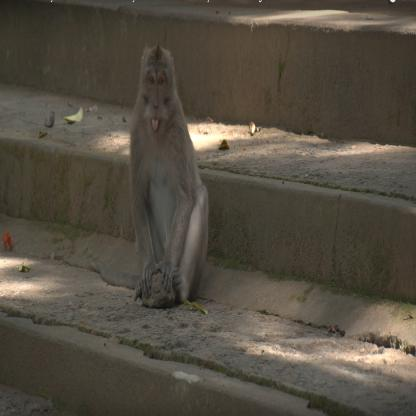monkey: (128, 36, 210, 308)
